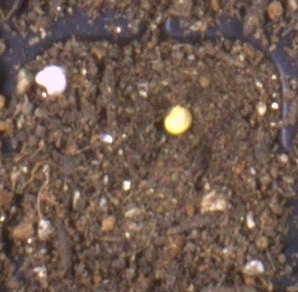chilli seed: (163, 103, 193, 135)
